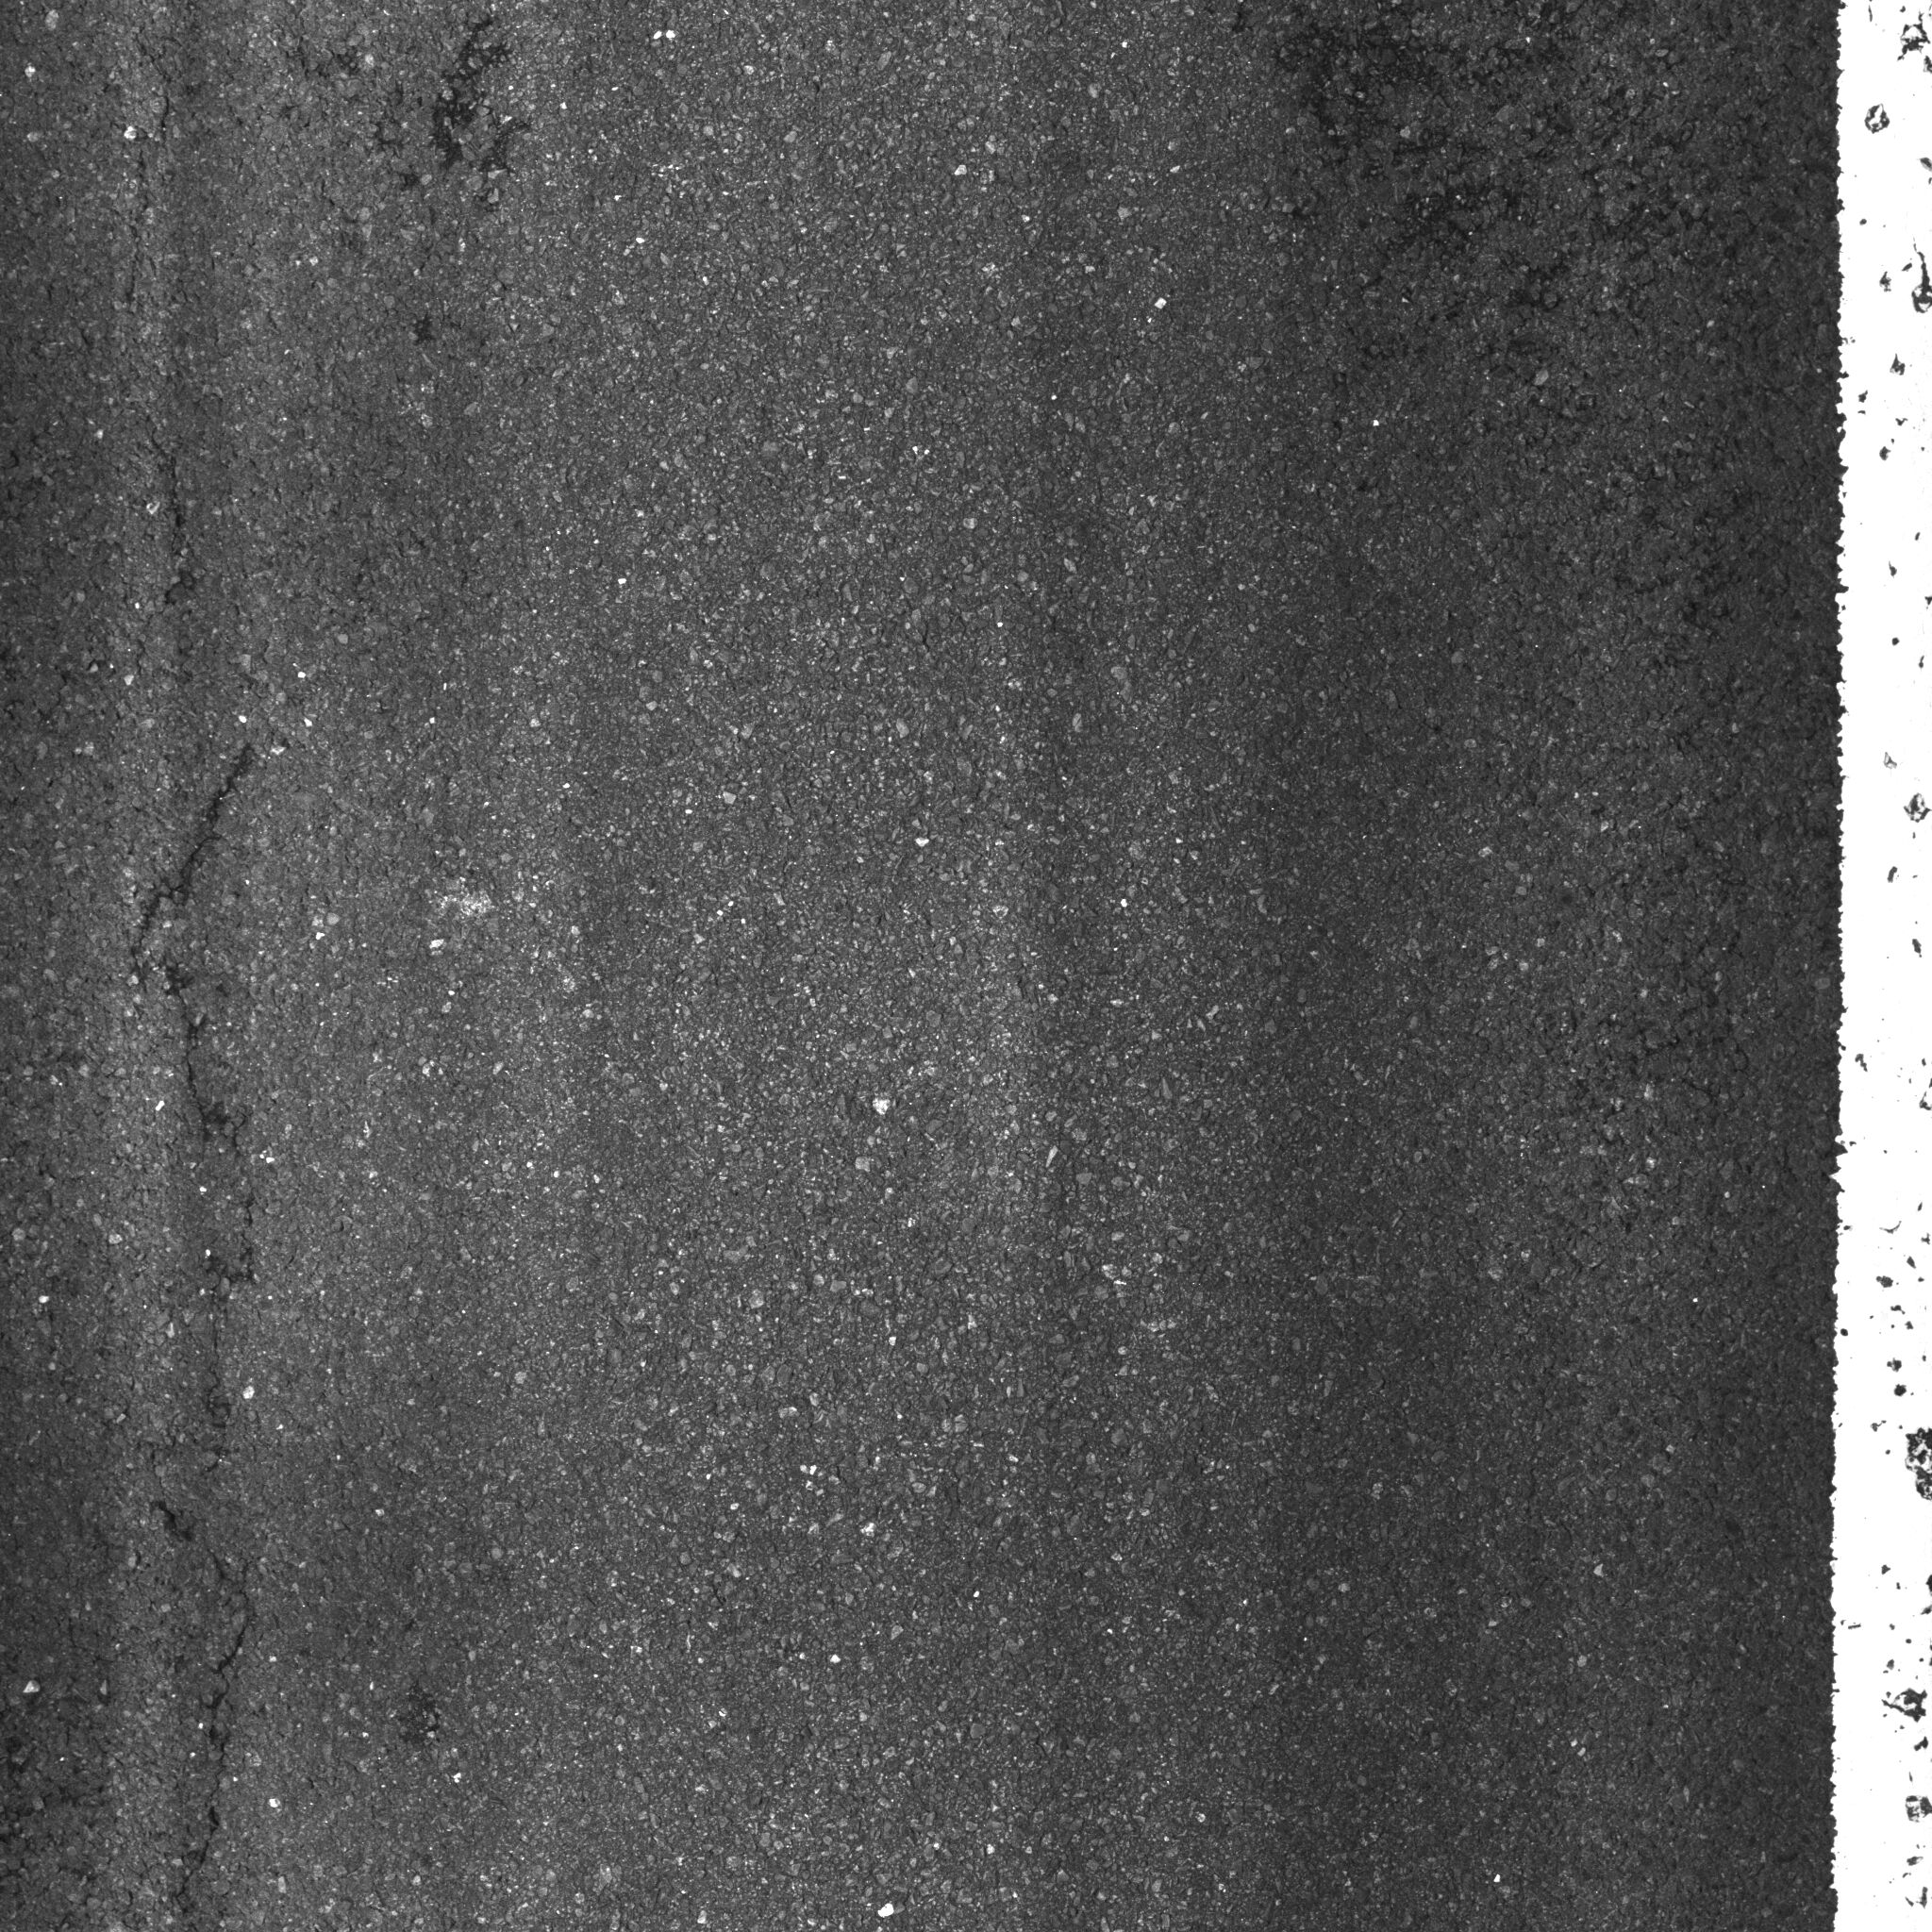longitudinal: (101, 697, 331, 1932), (85, 14, 211, 619)
